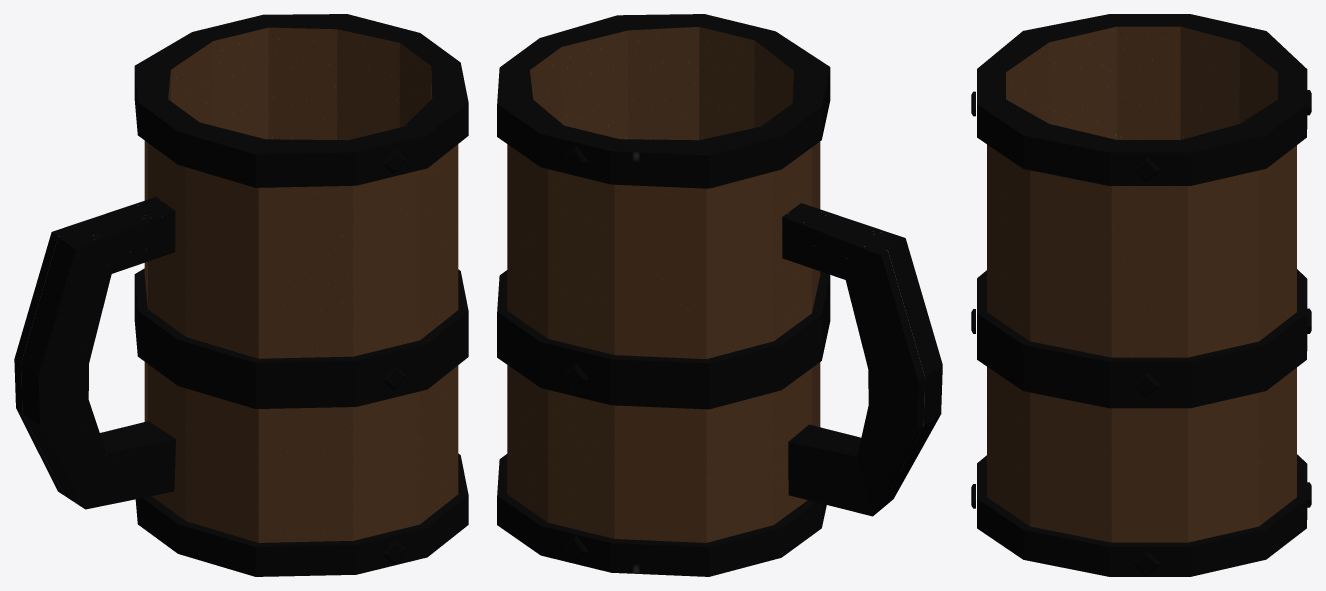
File: wizard cup.fbx
The picture shows the model from 3 angles, left to right: view 1: azimuth 30°, elevation 25°; view 2: azimuth 150°, elevation 25°; view 3: azimuth 270°, elevation 25°; orthographic projection.
Parts seen in each view (by area): view 1: Cube; view 2: Cube; view 3: Cube.
Part boxes in pixels (x1,y1,x2,y2): Cube: [14, 14, 468, 576]; Cube: [497, 14, 942, 576]; Cube: [971, 14, 1311, 576].
Size of the model in its own units: 144 by 139 by 101.
